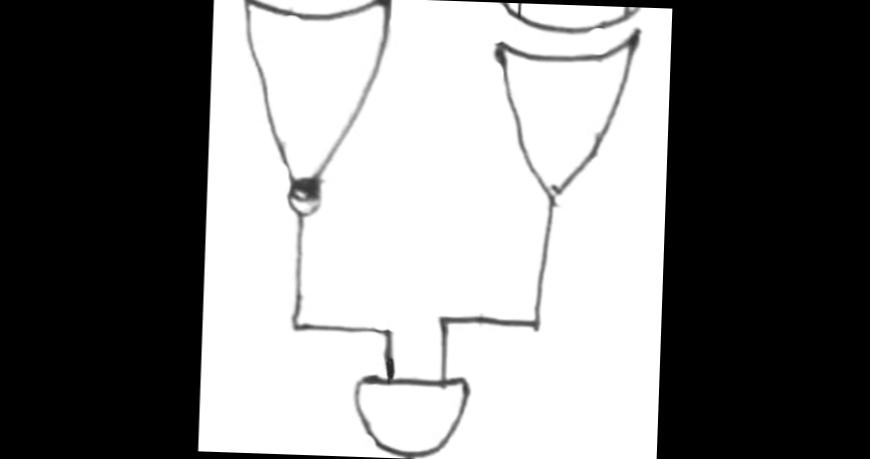and: (346, 362, 476, 459)
xnor: (227, 0, 400, 232)
xor: (480, 2, 650, 218)
